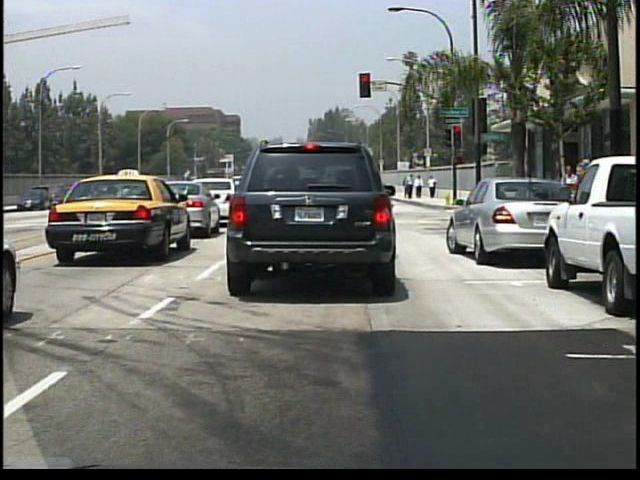person: (558, 164, 581, 226), (405, 174, 415, 200), (428, 175, 438, 201), (415, 175, 423, 201), (404, 175, 412, 200)
